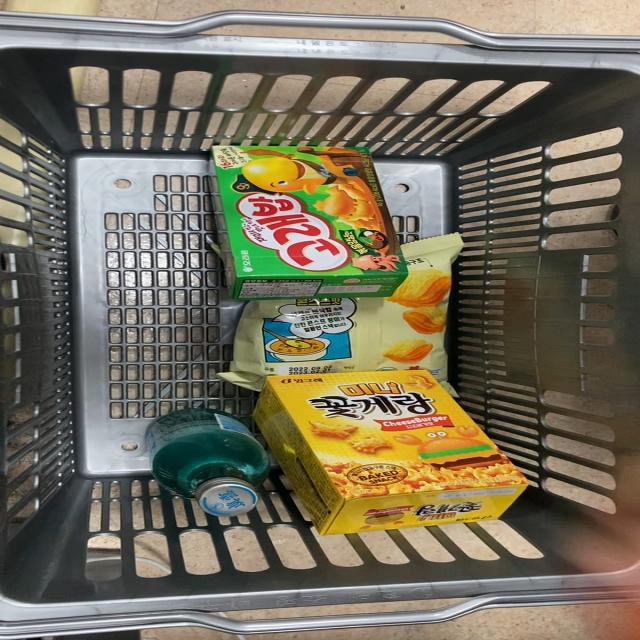ggobukchip: (223, 291, 470, 371)
goraebob: (206, 136, 402, 292)
jinro: (140, 401, 289, 524)
minicrab: (256, 359, 528, 531)
